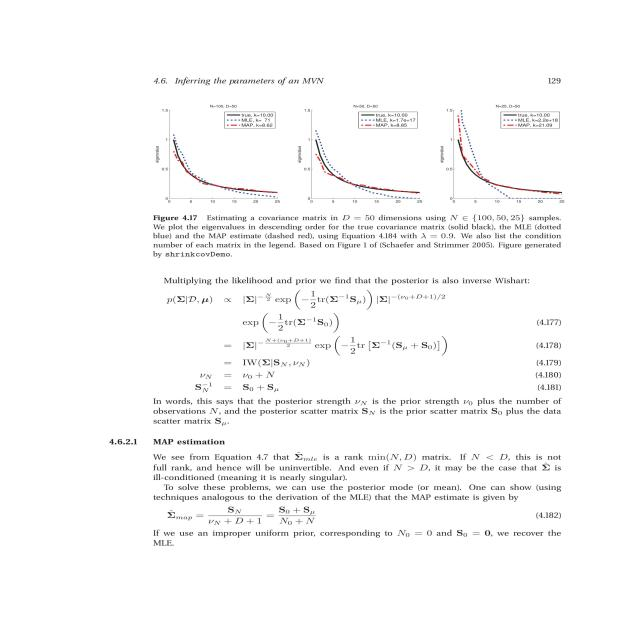diagram: (116, 85, 640, 268)
